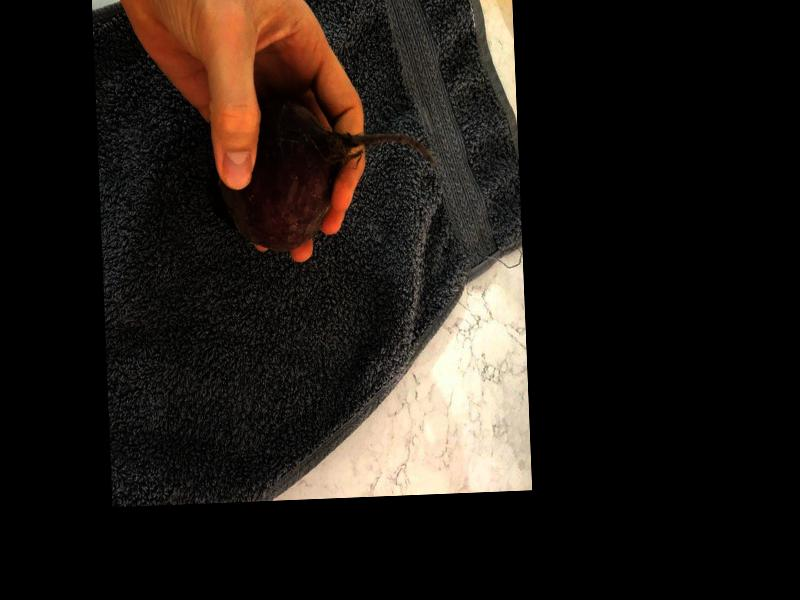Beet: (203, 91, 438, 254)
